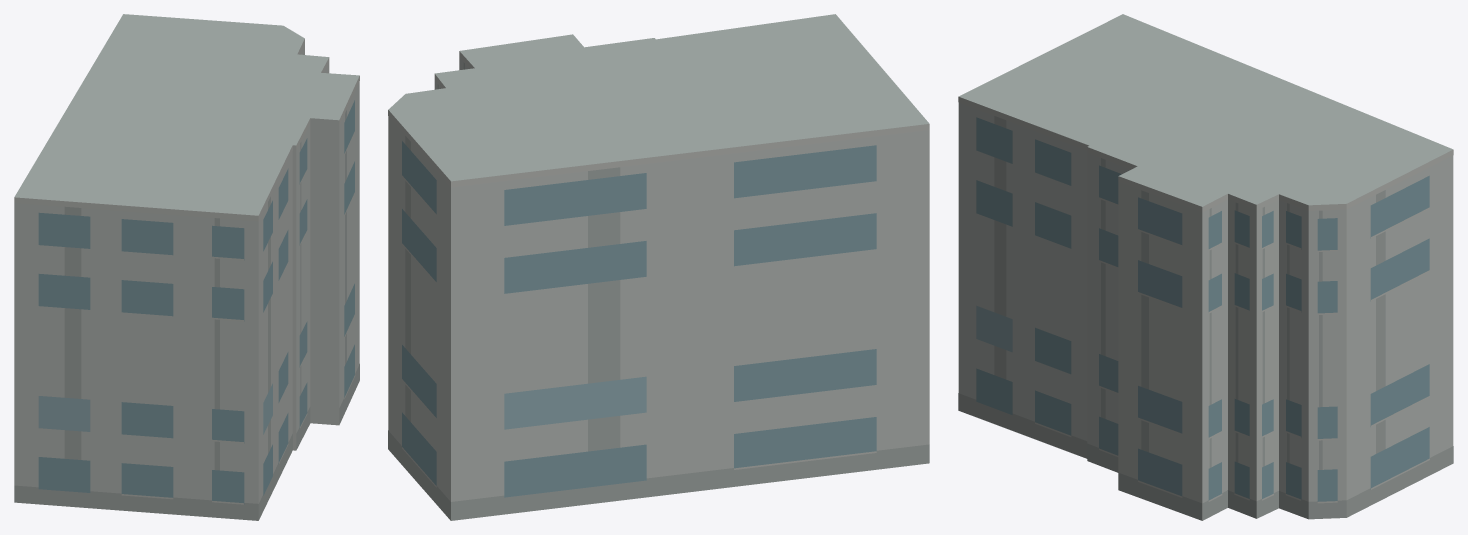
The model's file is survey-upis-32946953.glb.
3 views of the same model, side by side, from view 1: azimuth 30°, elevation 25°; view 2: azimuth 150°, elevation 25°; view 3: azimuth 270°, elevation 25° (orthographic). The views are drawn at different scales.
Parts seen in each view (by area): view 1: survey-upis-32946953.tmp; view 2: survey-upis-32946953.tmp; view 3: survey-upis-32946953.tmp.
Boxes of the visible parts, x1,y1,x2,y2 form: survey-upis-32946953.tmp: (14,14,359,520); survey-upis-32946953.tmp: (388,14,929,520); survey-upis-32946953.tmp: (958,14,1453,520).
Size of the model in its own units: 17.53 by 13.3 by 19.01.
